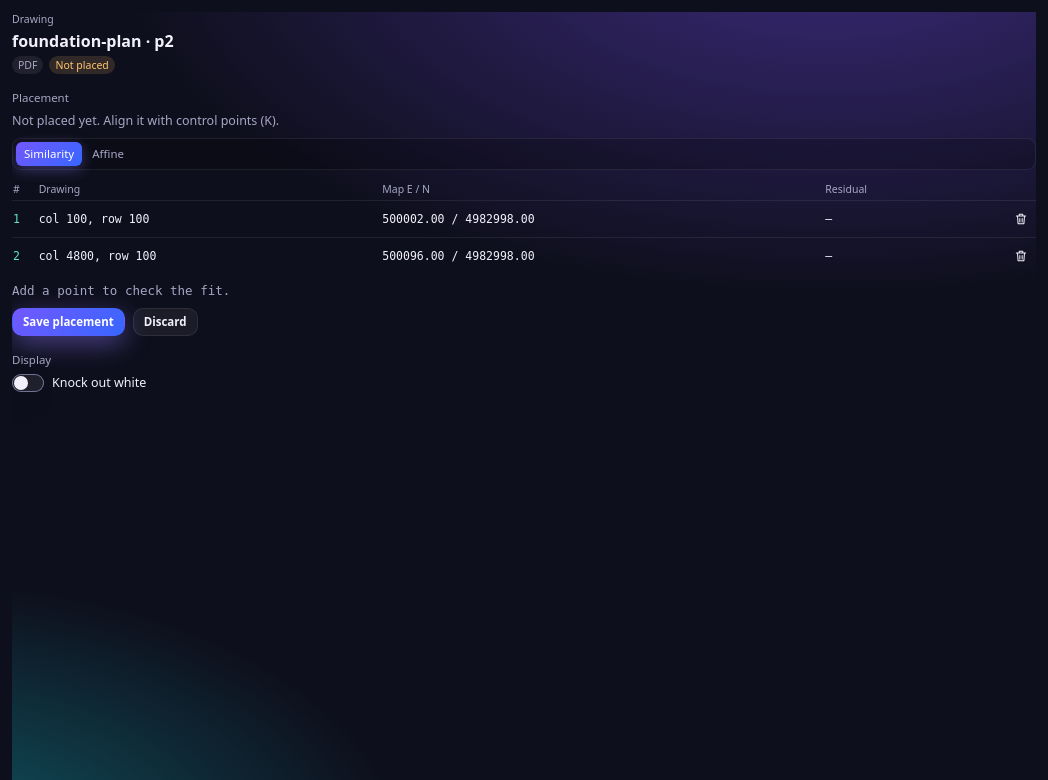
Test: DrawingInspector (spec §5.3) › says 'Add a point to check the fit' at the minimum; a missing pair disables Save
Expected: the text with test id "georef-rmse" reads "Add a point to check the fit.", [12, 283, 230, 298]
Click the radio button labelled "Affine" at (108, 154), box [84, 142, 132, 166]
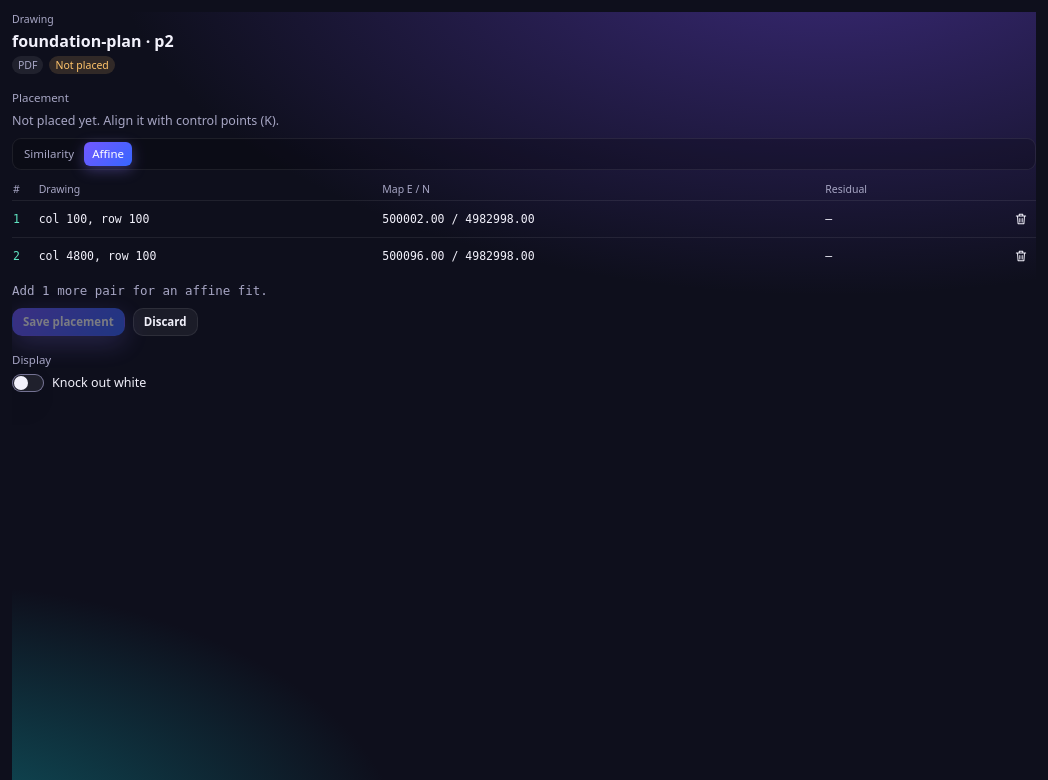
Expected: the text with test id "georef-rmse" reads "Add 1 more pair for an affine fit.", [12, 283, 268, 298]
Expected: the button "Save placement" is disabled, [12, 308, 125, 336]
